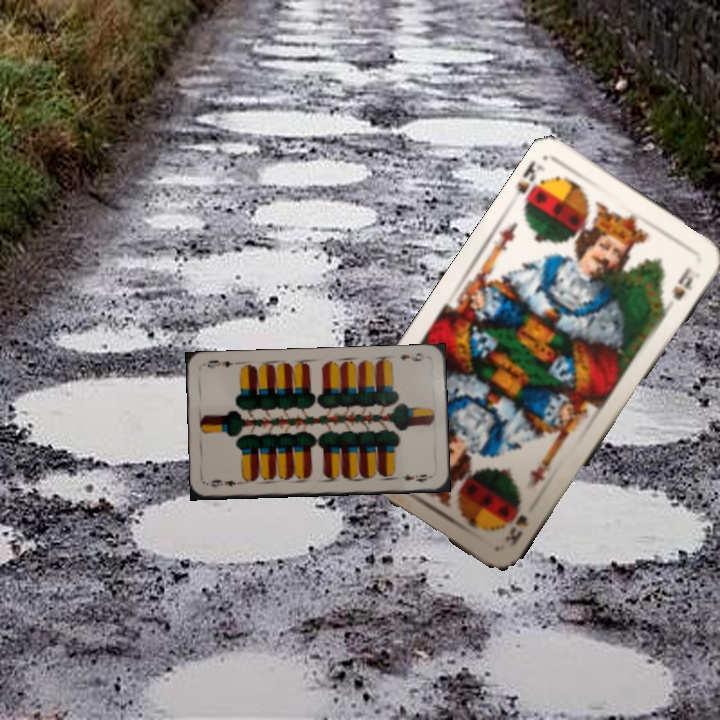E9: (206, 475, 245, 491), (396, 349, 427, 364)
SK: (512, 157, 550, 212), (500, 510, 532, 549)
